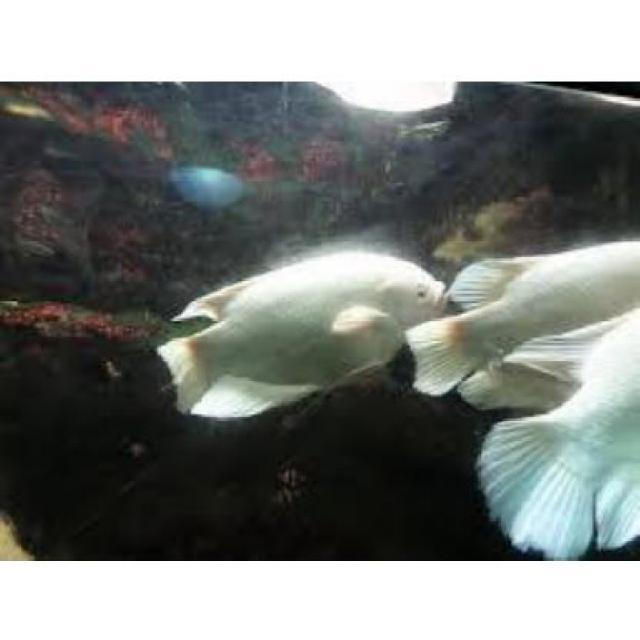gurame: (160, 255, 440, 420)
